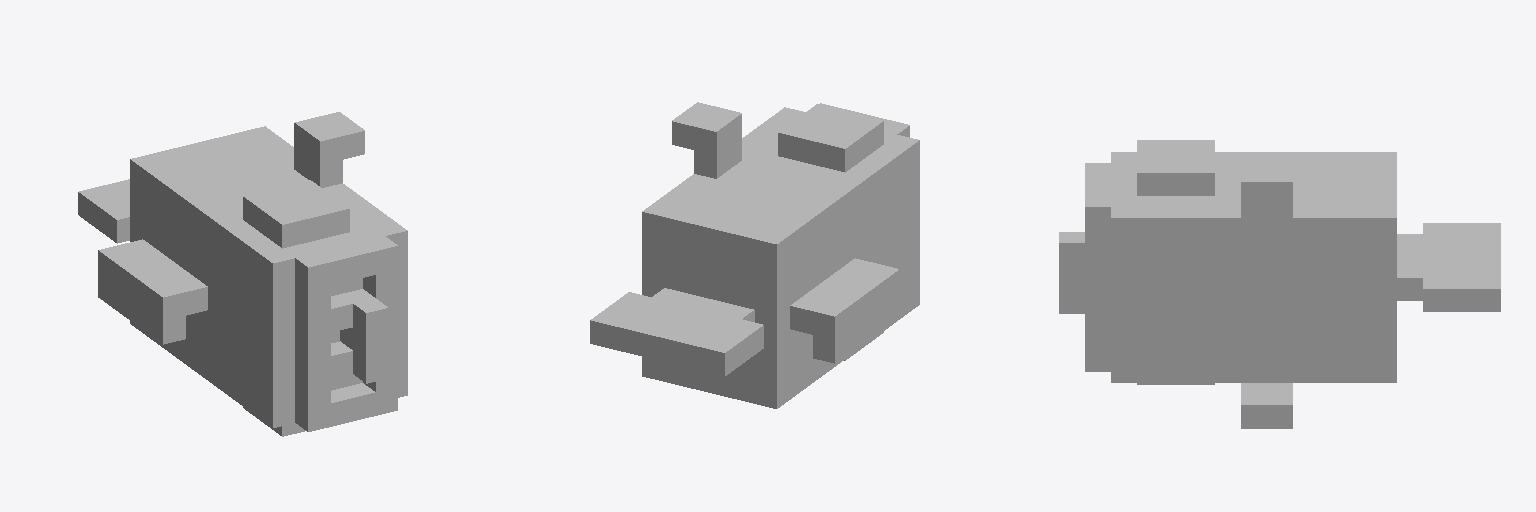
The picture shows the model from 3 angles: view 1: azimuth 30°, elevation 25°; view 2: azimuth 150°, elevation 25°; view 3: azimuth 270°, elevation 25°; orthographic projection.
Parts seen in each view (by area): view 1: Flappy_Fish; view 2: Flappy_Fish; view 3: Flappy_Fish.
Boxes of the visible parts, x1,y1,x2,y2 form: Flappy_Fish: [78, 112, 407, 436]; Flappy_Fish: [590, 102, 919, 408]; Flappy_Fish: [1059, 140, 1500, 428].
Size of the model in its own units: 0.625 by 0.625 by 1.06.